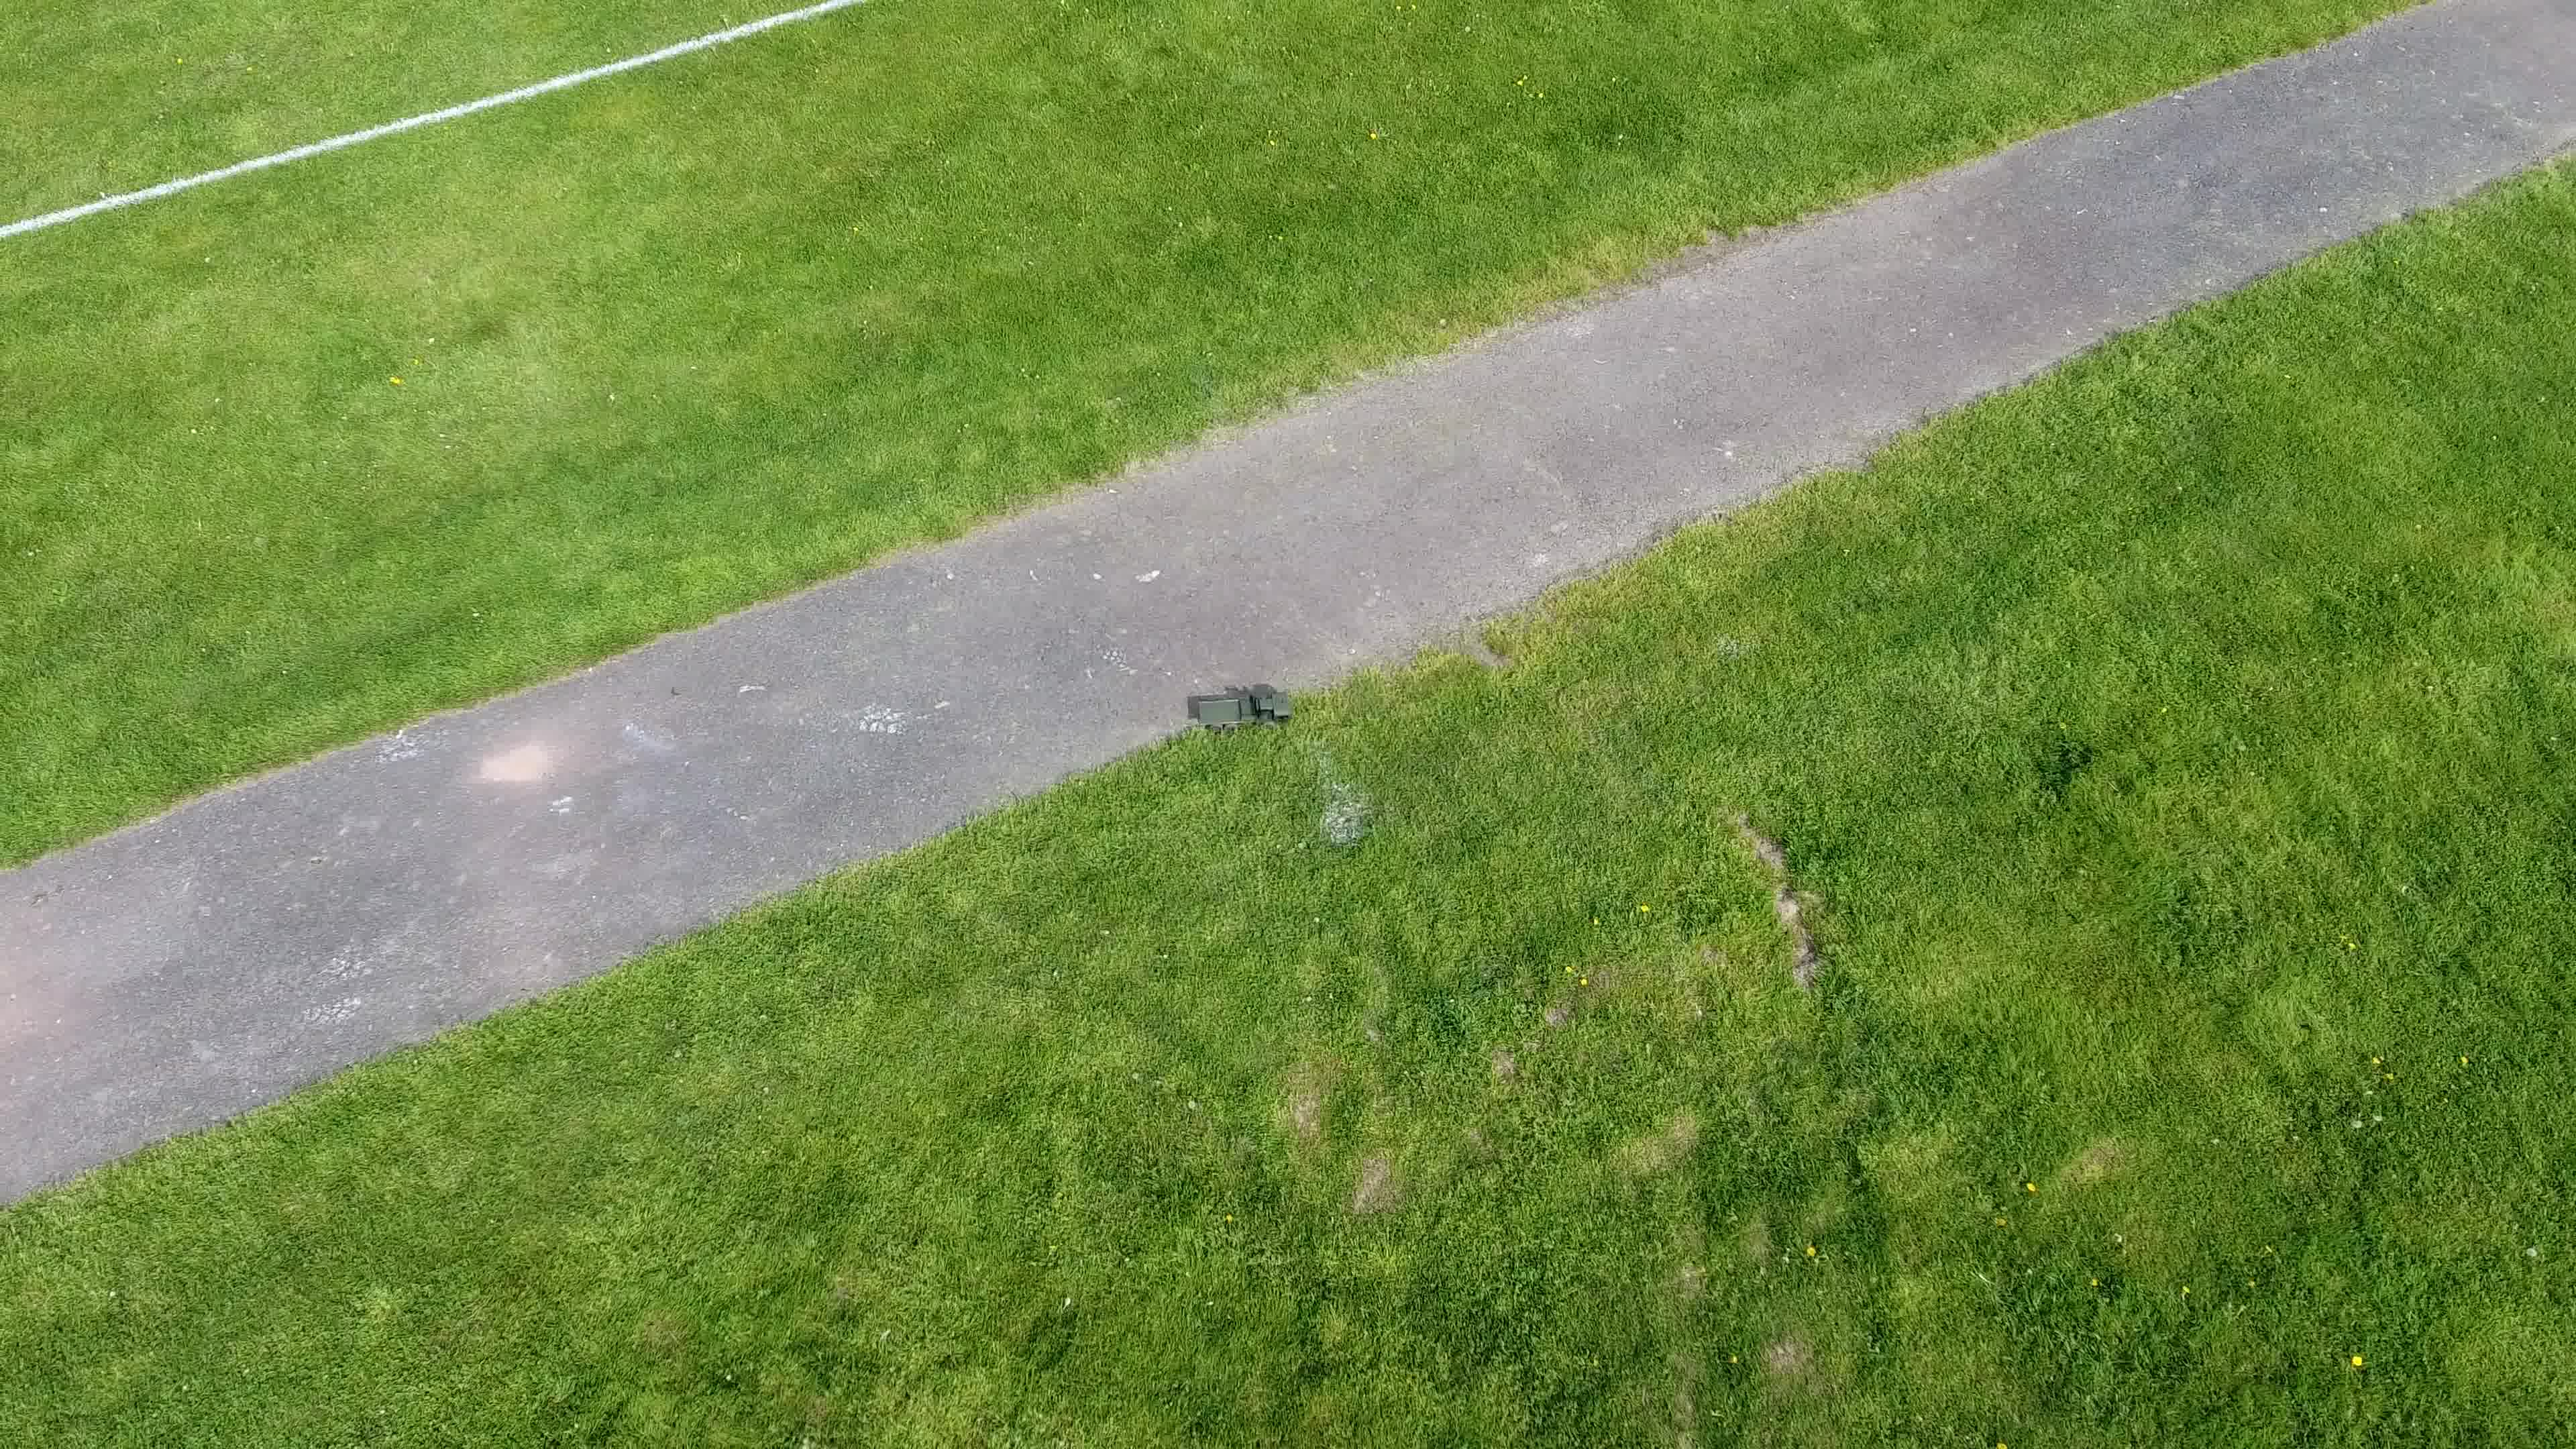transporter9: (1194, 688, 1300, 734)
